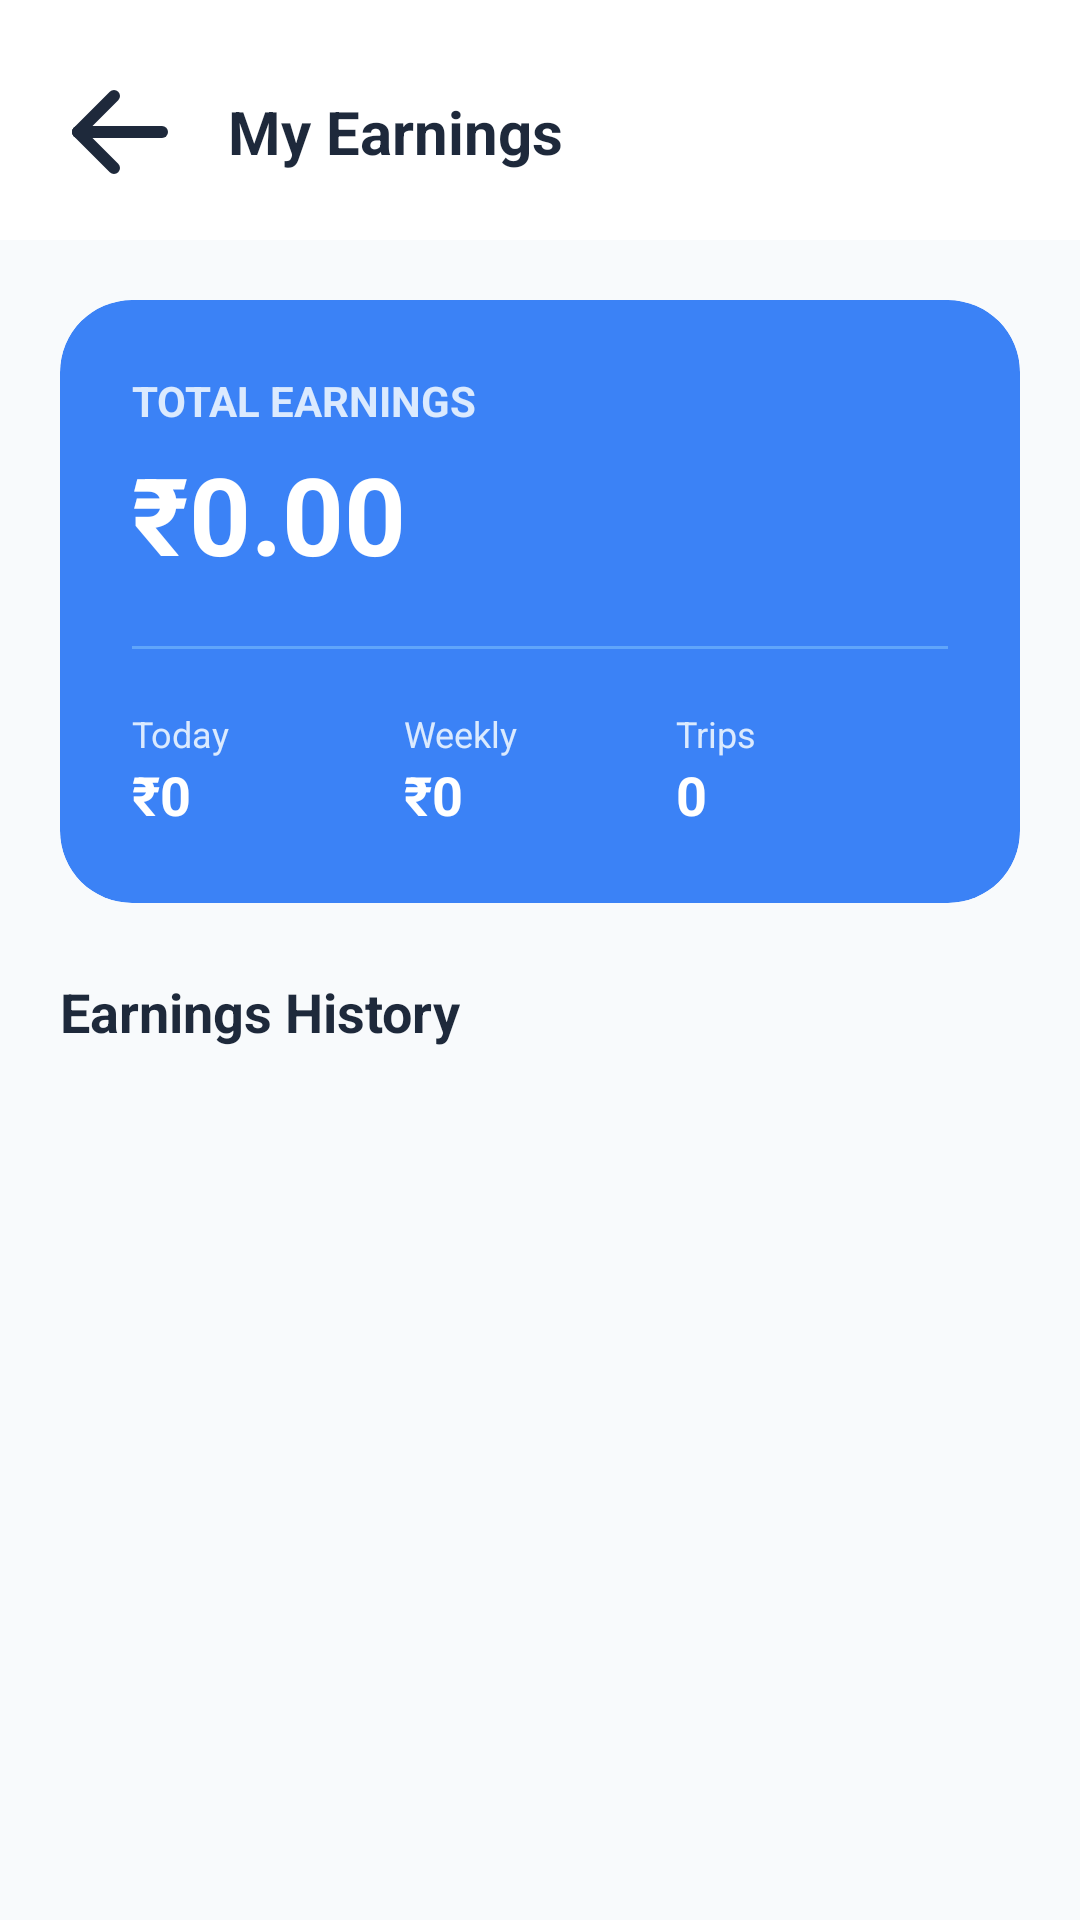

Screen size 1080*1920. Icon name, then its box in pixels as (left=x1, top=y1, right=x2, bottom=y2):
back arrow: (left=72, top=90, right=168, bottom=174)
